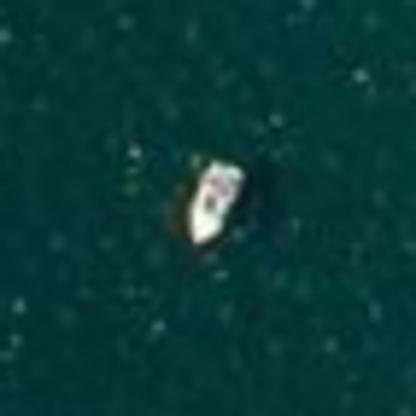ship: (172, 151, 254, 258)
